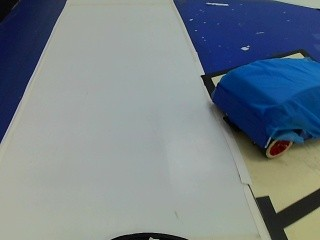car: (207, 54, 320, 160)
